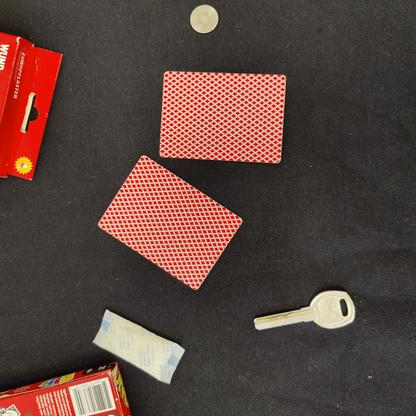card: (97, 153, 247, 299), (151, 65, 293, 170)
